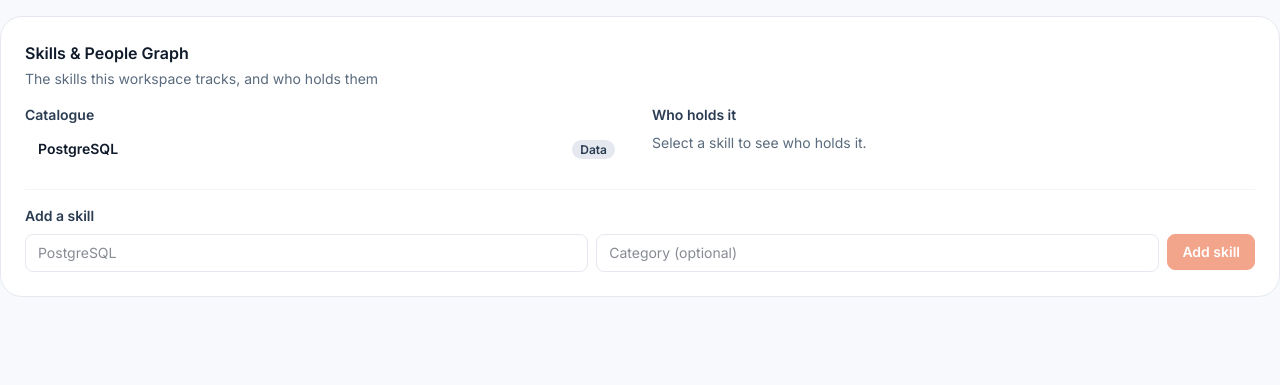
Test: SkillsPanel › answers "who holds this skill" when a skill is selected
Click the button "PostgreSQL Data". click: (78, 148)
box: [25,133,628,165]
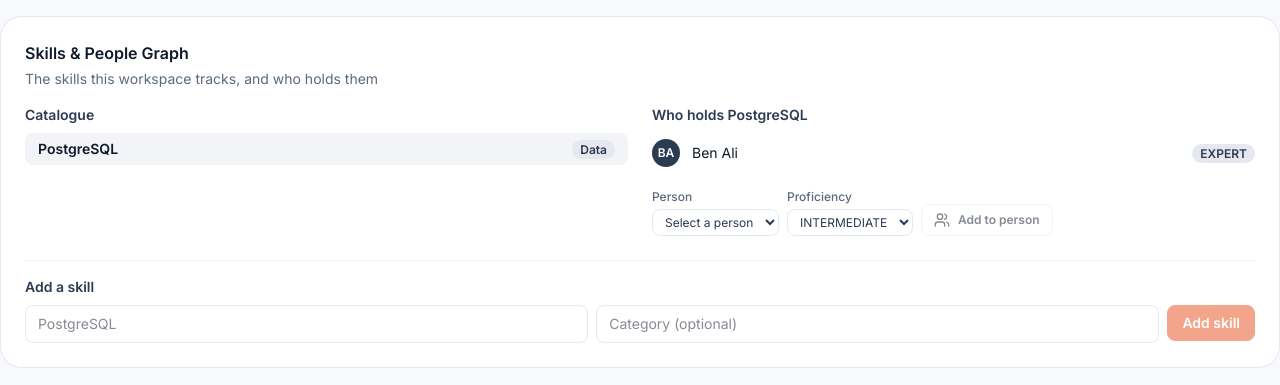
Expected: the text "Ben Ali" is shown, [692,144,738,161]
Expected: the text "EXPERT" is shown, [1192,144,1255,162]
